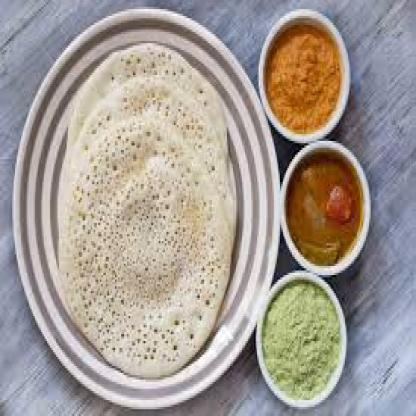dosa: (59, 115, 230, 377), (57, 73, 236, 254), (67, 43, 227, 178)
